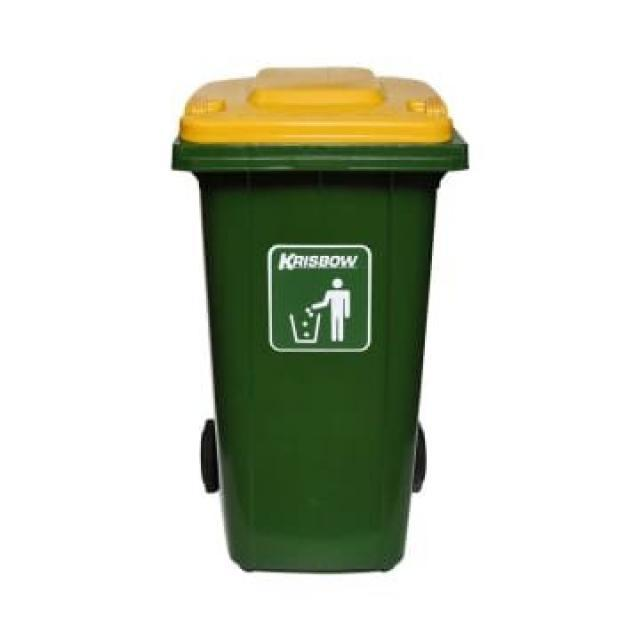Dumpster: (170, 63, 469, 577)
